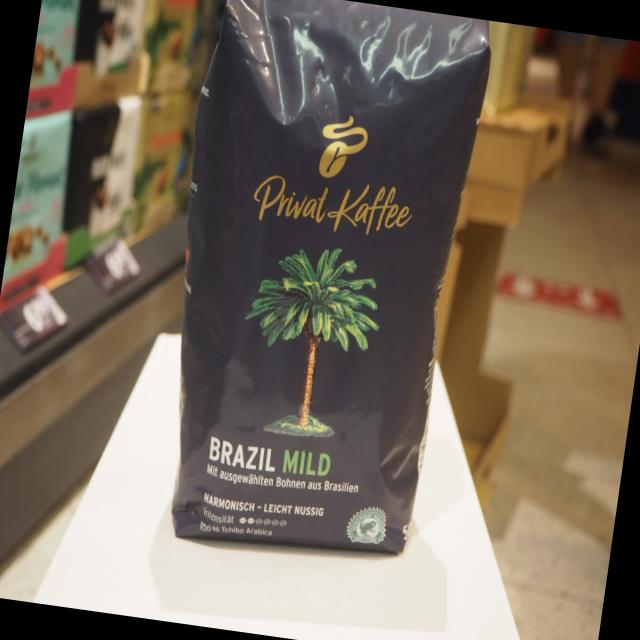BM Bohne: (130, 0, 501, 575)
